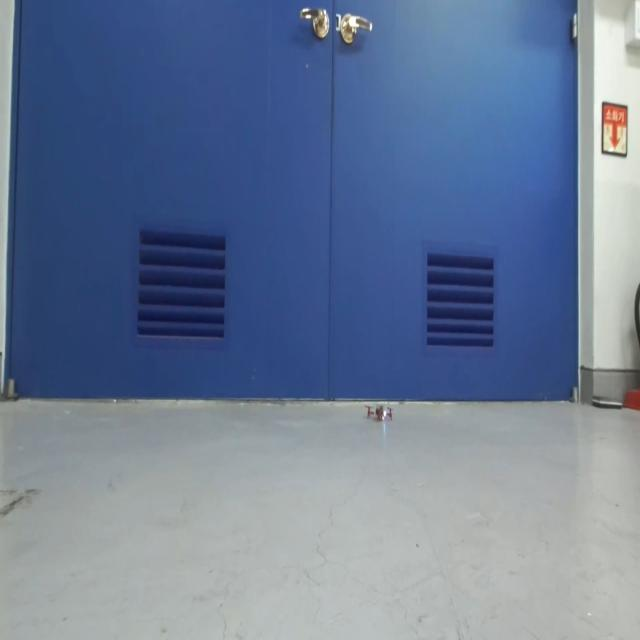crazyflie: (364, 401, 394, 428)
